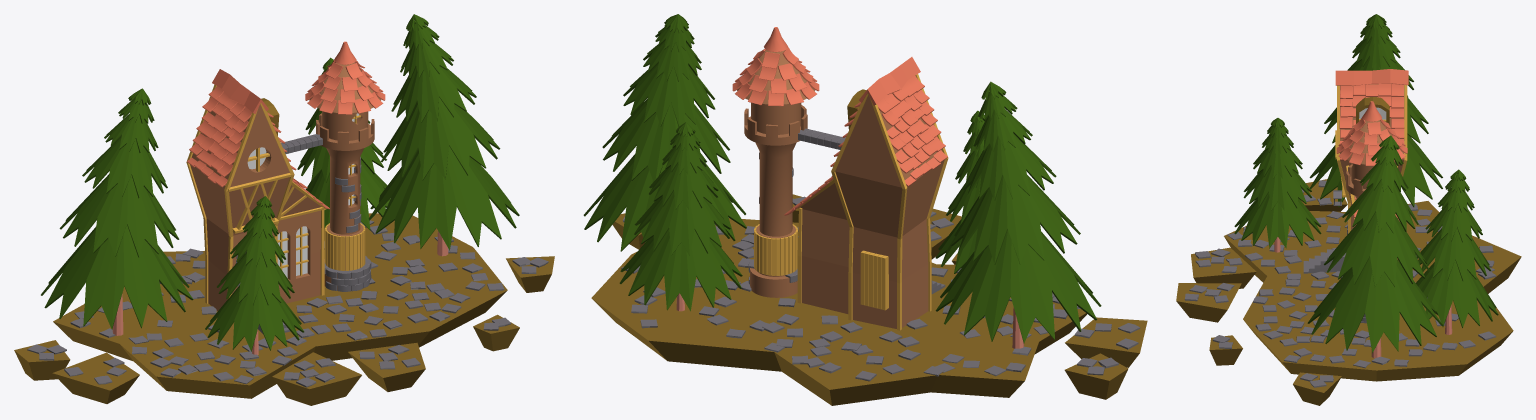
The model's file is fantasy_house.glb.
3 views of the same model, side by side, from view 1: azimuth 30°, elevation 25°; view 2: azimuth 150°, elevation 25°; view 3: azimuth 270°, elevation 25° (orthographic). The views are drawn at different scales.
Parts seen in each view (by area): view 1: Cylinder.006, object 10, object 11, object 3, object 6, object 4, object 2, object 1, object 5; view 2: Cylinder.006, object 10, object 3, object 6, object 11, object 4, object 2, object 5, object 8, object 1; view 3: Cylinder.006, object 10, object 11, object 6, object 4, object 2, object 1, object 7, object 3.
Part boxes in pixels (left/top/right/bottom): Cylinder.006: left=41, top=14, right=519, bottom=354; object 10: left=14, top=213, right=554, bottom=405; object 11: left=27, top=220, right=548, bottom=387; object 3: left=190, top=103, right=321, bottom=311; object 6: left=187, top=41, right=385, bottom=209; object 4: left=309, top=62, right=381, bottom=290; object 2: left=186, top=84, right=326, bottom=303; object 1: left=236, top=134, right=371, bottom=334; object 5: left=325, top=223, right=365, bottom=270; Cylinder.006: left=583, top=14, right=1101, bottom=348; object 10: left=591, top=194, right=1147, bottom=405; object 3: left=800, top=93, right=944, bottom=328; object 6: left=732, top=27, right=947, bottom=215; object 11: left=621, top=196, right=1140, bottom=381; object 4: left=737, top=50, right=815, bottom=297; object 2: left=797, top=74, right=948, bottom=330; object 5: left=754, top=224, right=797, bottom=275; object 8: left=860, top=250, right=888, bottom=310; object 1: left=748, top=128, right=945, bottom=293; Cylinder.006: left=1234, top=14, right=1498, bottom=358; object 10: left=1176, top=179, right=1521, bottom=405; object 11: left=1184, top=180, right=1496, bottom=387; object 6: left=1335, top=69, right=1408, bottom=225; object 4: left=1340, top=120, right=1403, bottom=198; object 2: left=1335, top=85, right=1407, bottom=258; object 1: left=1303, top=224, right=1366, bottom=323; object 7: left=1356, top=97, right=1389, bottom=124; object 3: left=1340, top=83, right=1404, bottom=230.
Size of the model in its own units: 24.21 by 12.05 by 16.2.
